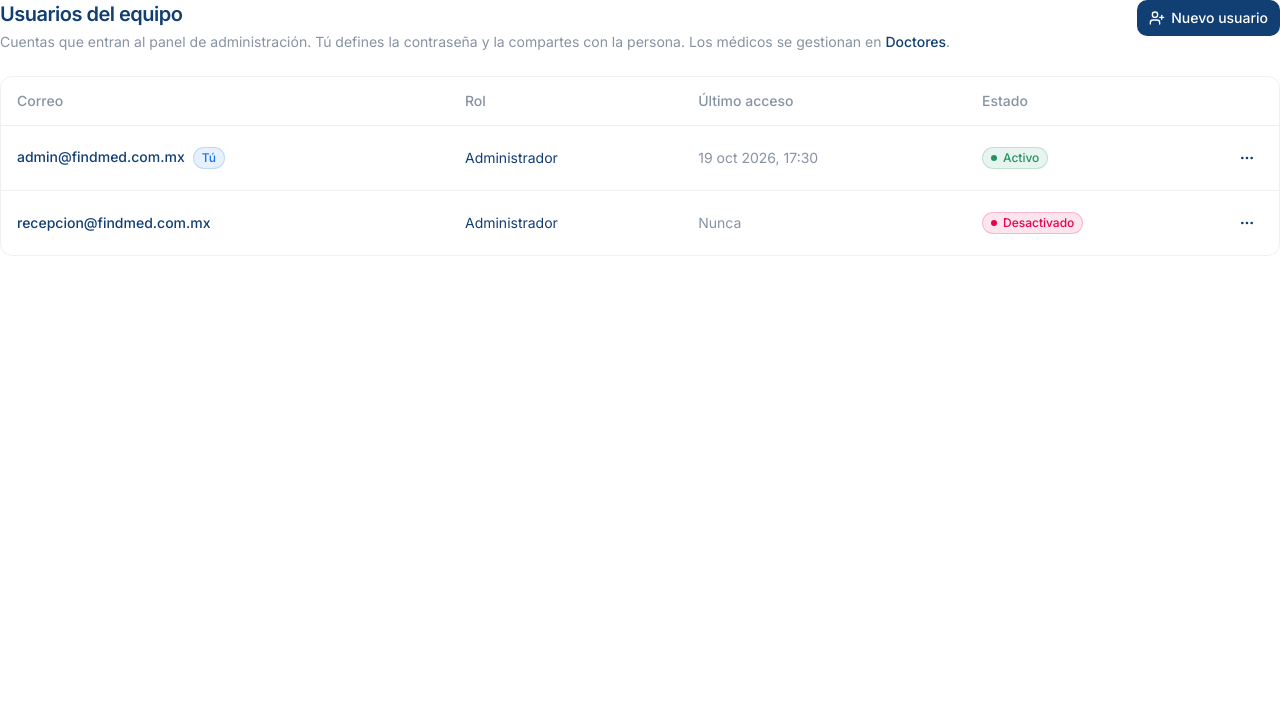
it: Configuración → Usuarios › nuevo usuario: valida la contraseña, genera una segura y al crear muestra los datos para compartir
Expected: the text "admin@findmed.com.mx" is shown, top-left (17, 148), bottom-right (185, 164)
Click the button "Nuevo usuario". click: (1209, 18)
box: top-left (1137, 0), bottom-right (1279, 36)
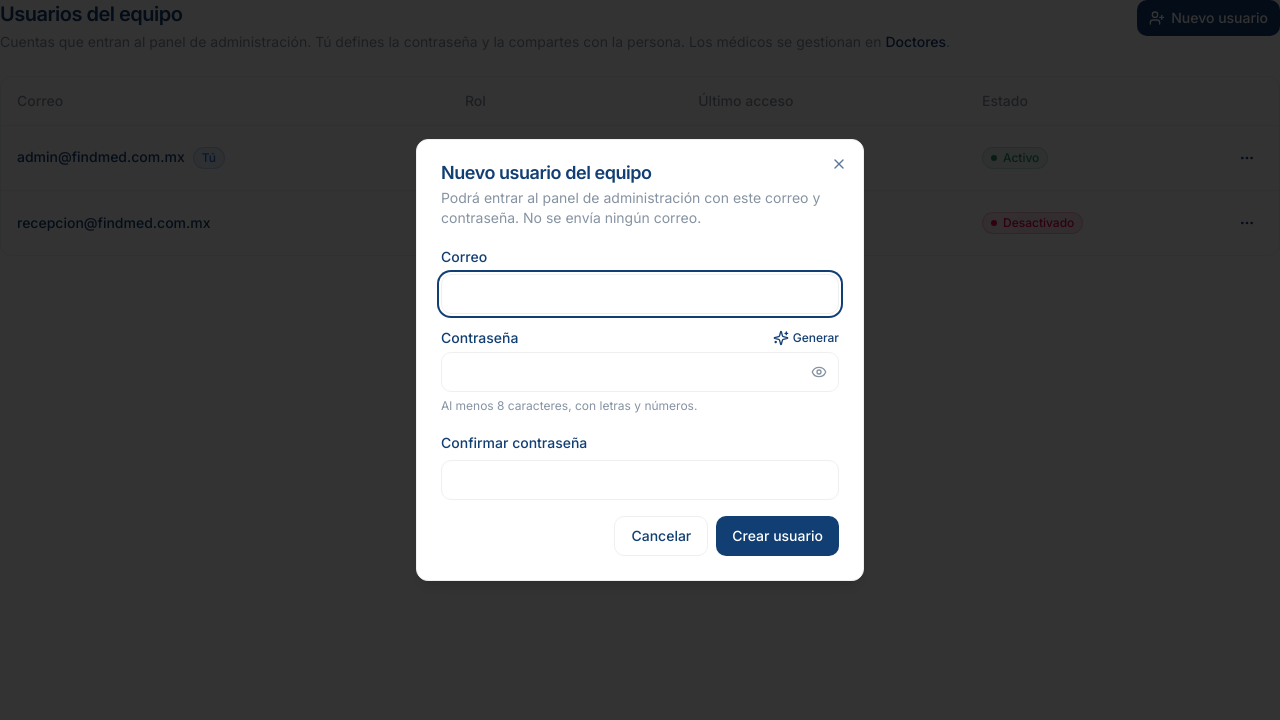
Type "Caja@FindMed.com.mx" into the field labelled "Correo". click: (640, 294)
box: top-left (441, 274), bottom-right (839, 314)
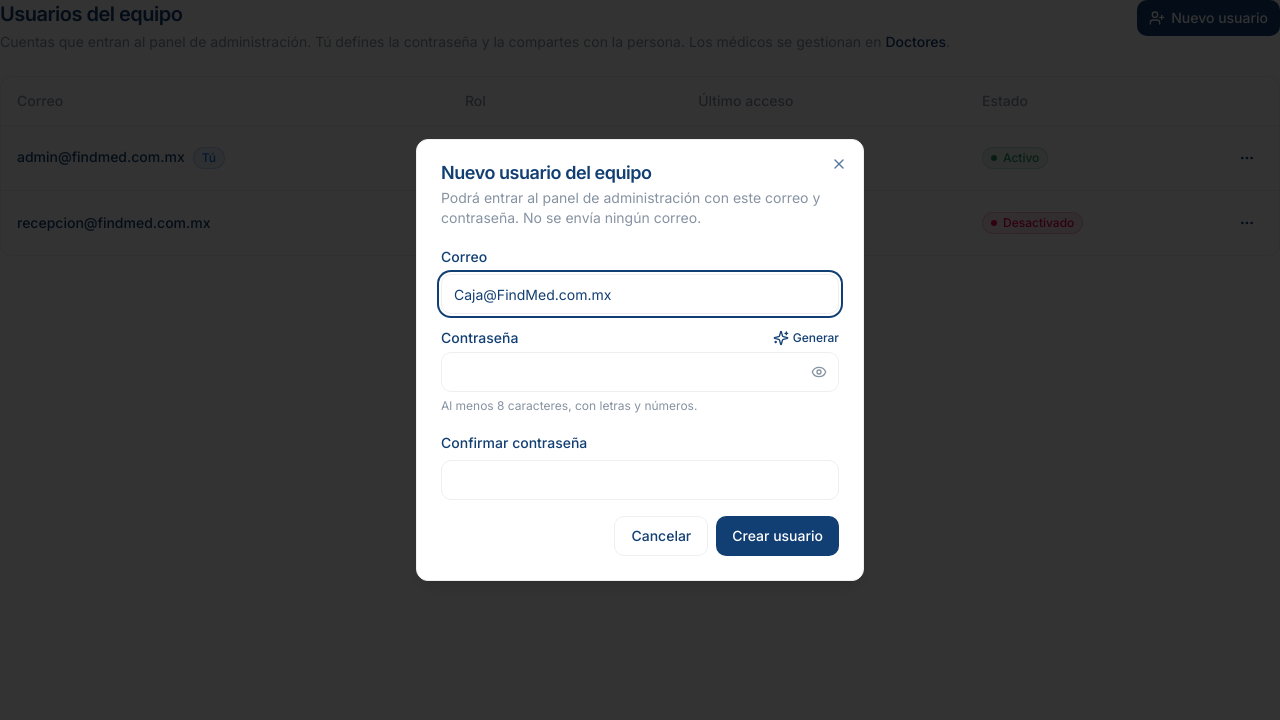
Type "corta" into the password field labelled "Contraseña". click: (640, 372)
box: top-left (441, 352), bottom-right (839, 392)
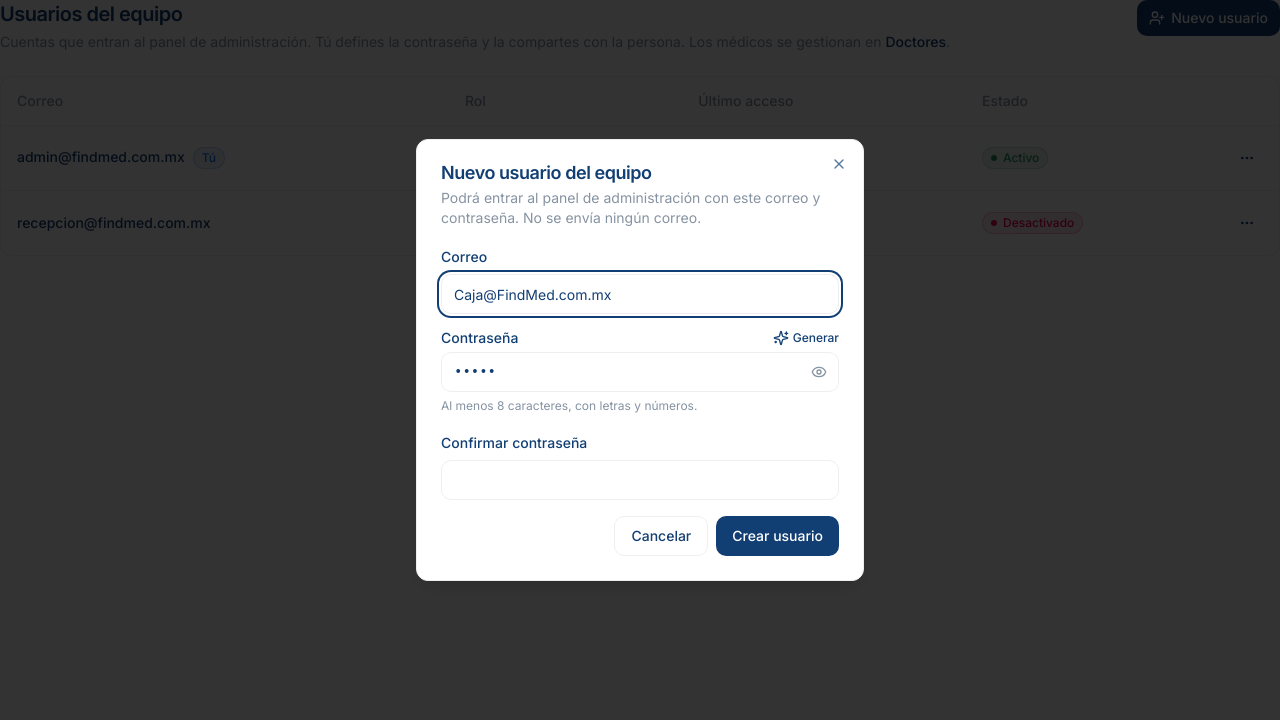
Click the button "Crear usuario". click: (778, 536)
box: top-left (716, 516), bottom-right (839, 556)
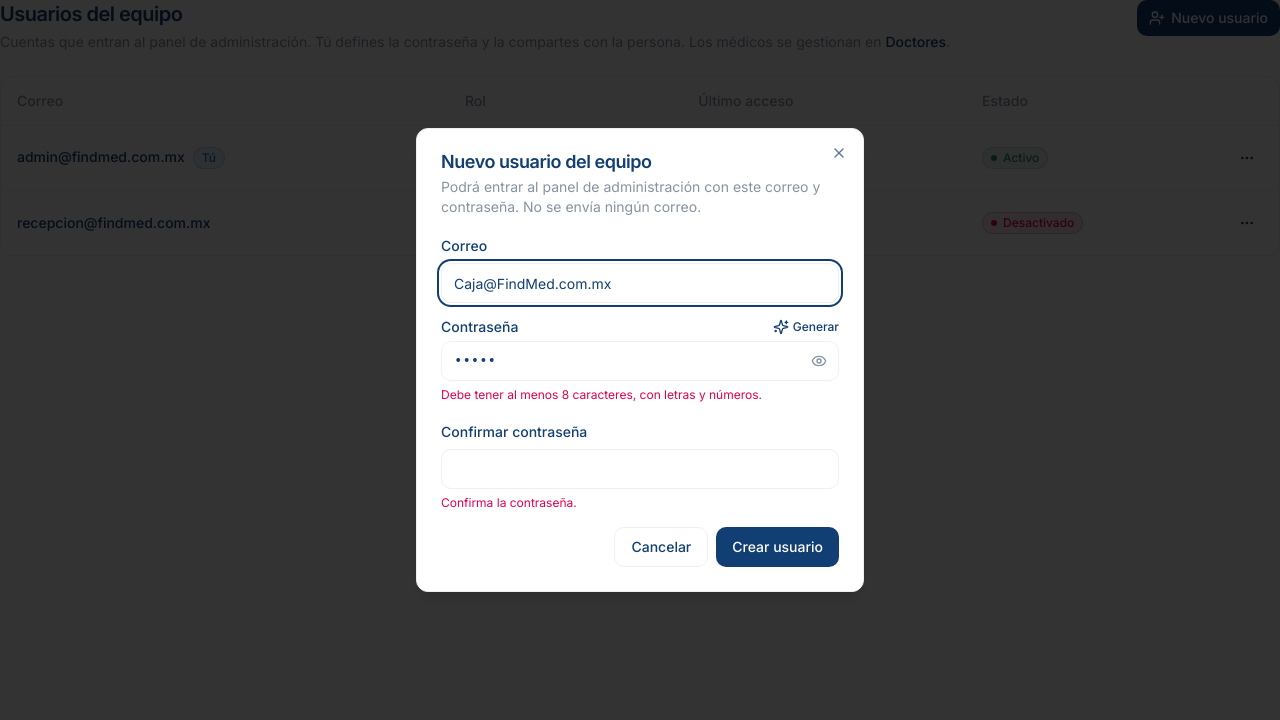
Now the text "Debe tener al menos 8 caracteres, con letras y números." has class "text-destructive", box top-left (441, 387), bottom-right (762, 402)
Click the button "Generar". click: (806, 327)
box: top-left (773, 319), bottom-right (839, 335)
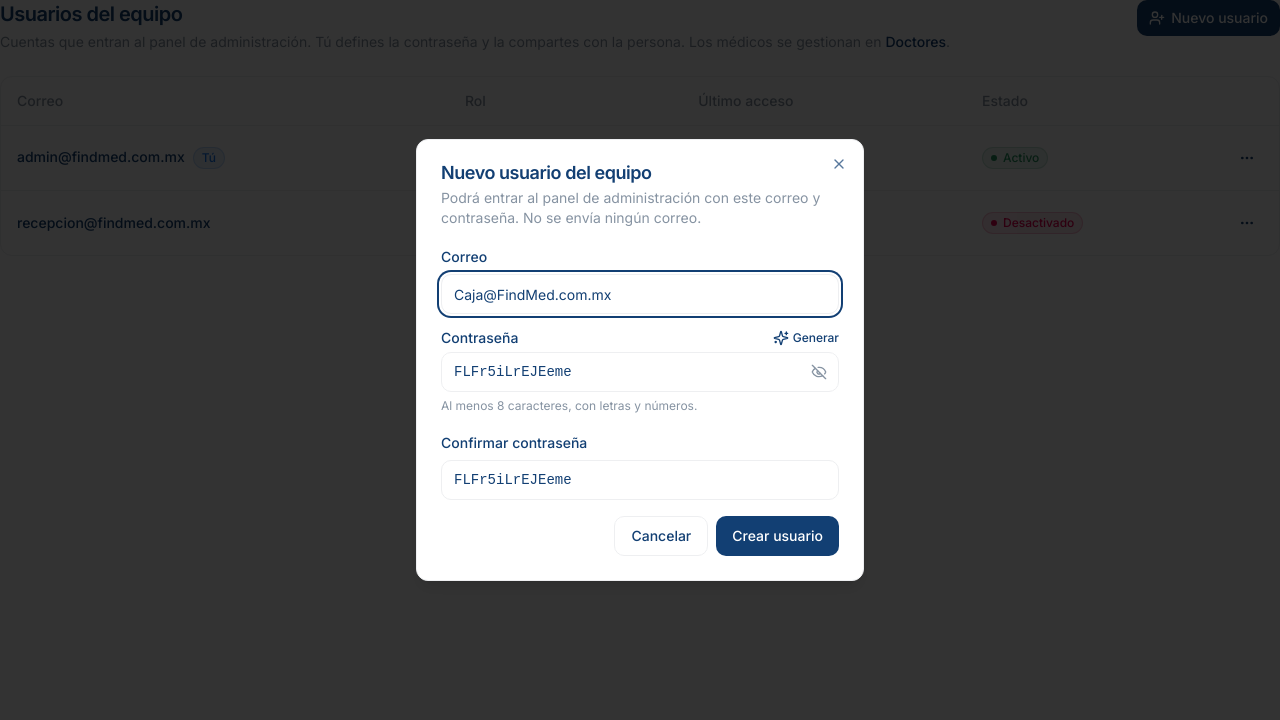
Now the field labelled "Contraseña" shows its text, box top-left (441, 352), bottom-right (839, 392)
Click the button "Crear usuario". click: (778, 536)
box: top-left (716, 516), bottom-right (839, 556)
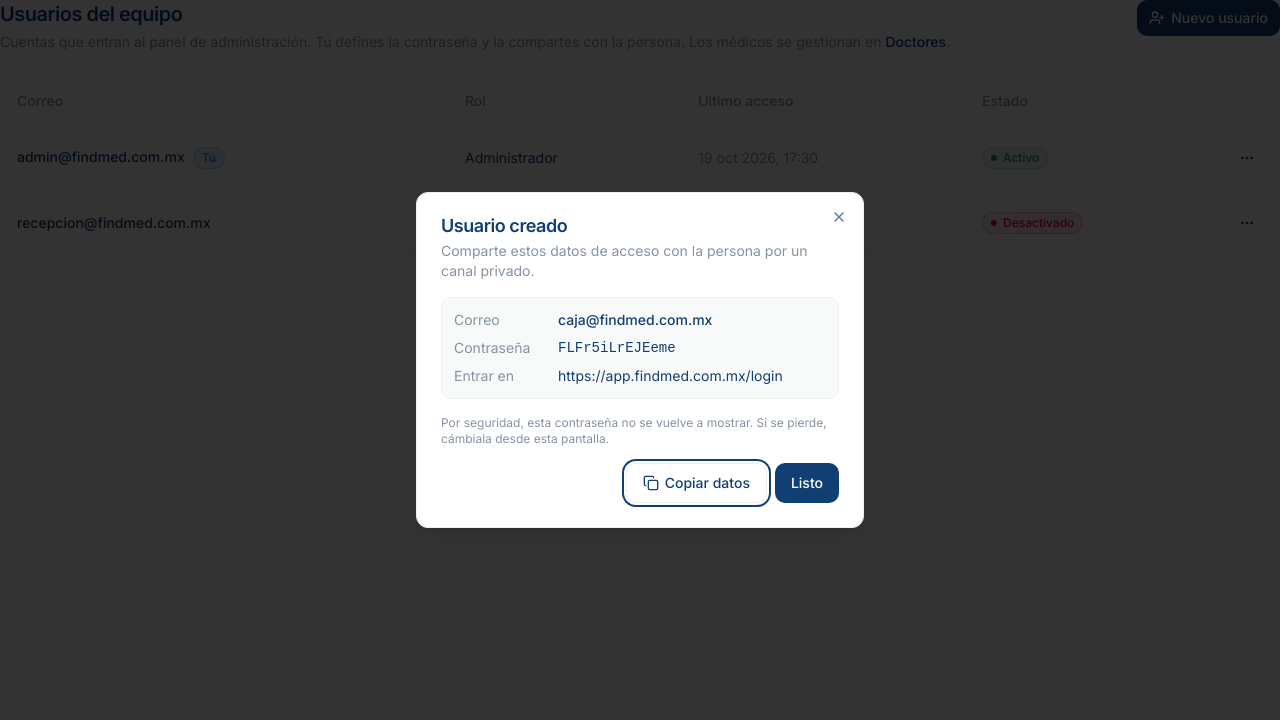
Now the text "Comparte estos datos de acceso con la persona por un canal privado." is shown, box top-left (441, 241), bottom-right (839, 281)
Now the text "https://app.findmed.com.mx/login" is shown, box top-left (558, 366), bottom-right (783, 386)
Now the button "Copiar datos" is shown, box top-left (626, 463), bottom-right (767, 503)
